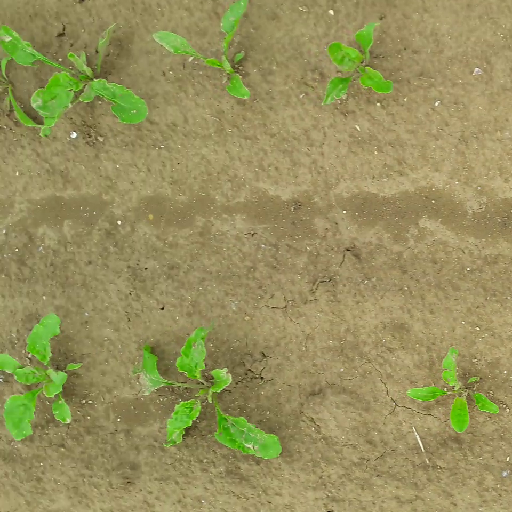sugarbeet: (129, 322, 284, 463), (1, 21, 152, 135), (1, 311, 83, 443), (154, 1, 256, 100), (401, 345, 502, 435), (320, 22, 398, 106), (1, 54, 44, 128)
